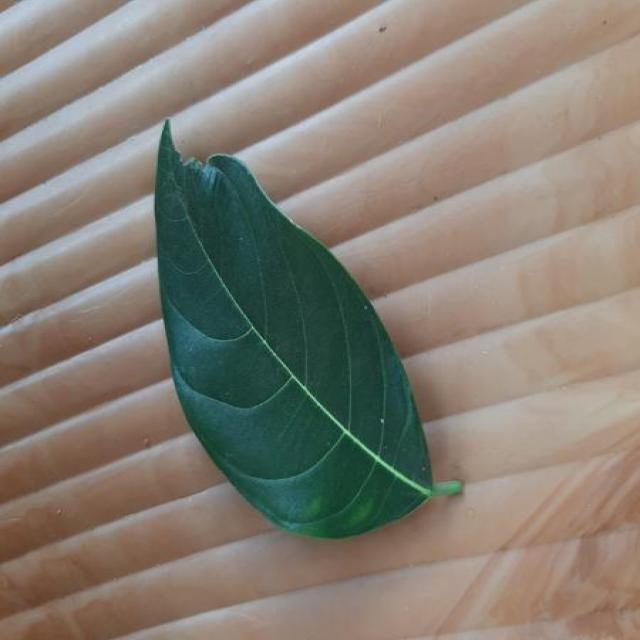Jackfruit: (155, 121, 463, 538)
